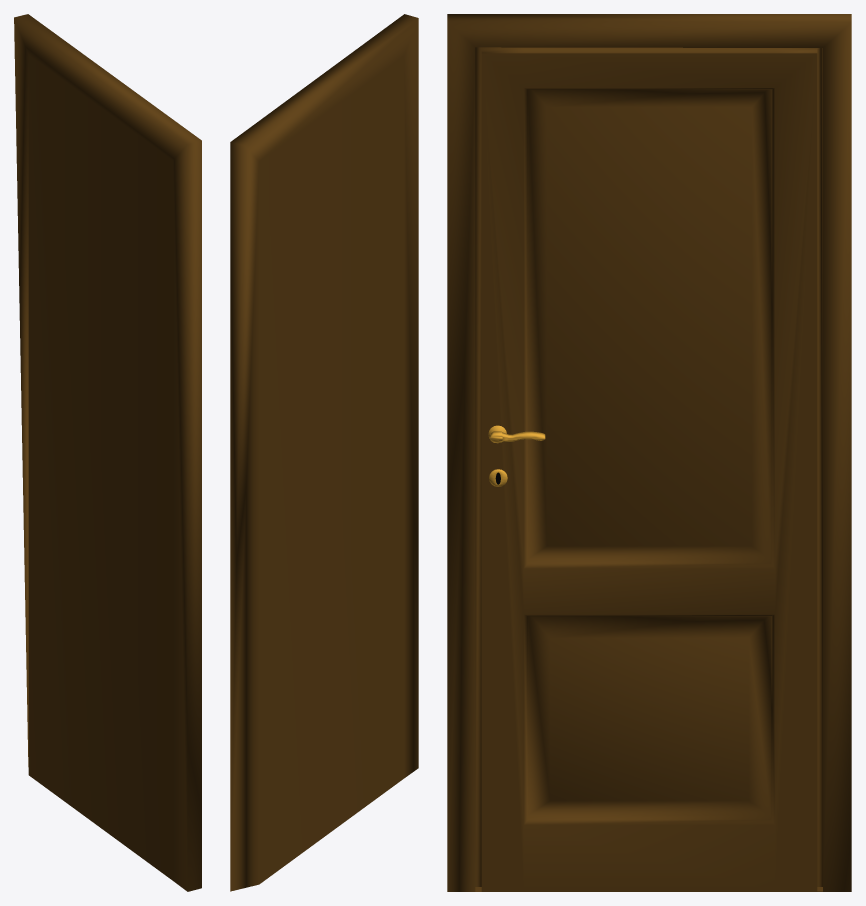
Rendered from Porte-bois.glb.
3 renders of one model, left to right at view 1: azimuth 30°, elevation 25°; view 2: azimuth 150°, elevation 25°; view 3: azimuth 270°, elevation 25°, orthographic. The views are drawn at different scales.
Visible parts, largest first — view 1: poignée; view 2: poignée; view 3: poignée.
Part boxes in pixels (x1,y1,x2,y2): poignée: (14, 14, 201, 891); poignée: (230, 14, 418, 891); poignée: (447, 14, 851, 891).
Size of the model in its own units: 0.1765 by 5.18 by 2.18.
